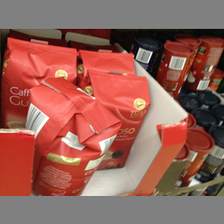coffee: (26, 76, 119, 196), (2, 37, 79, 129), (83, 69, 151, 168)
